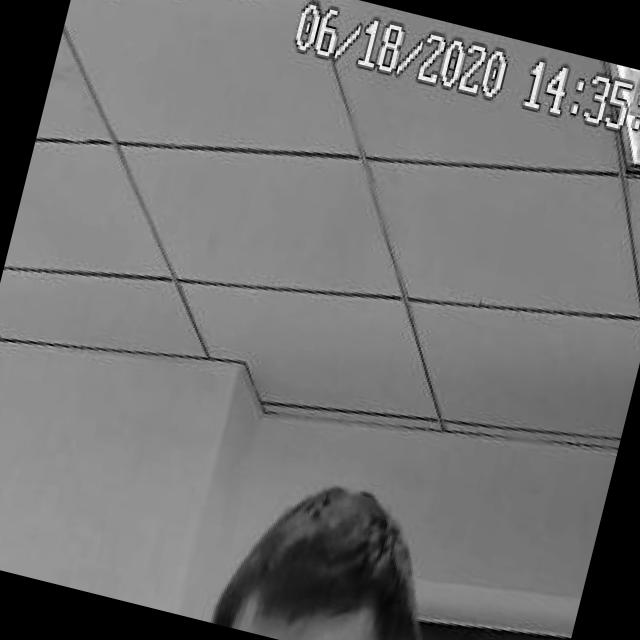Guns: (0, 541, 69, 586)
